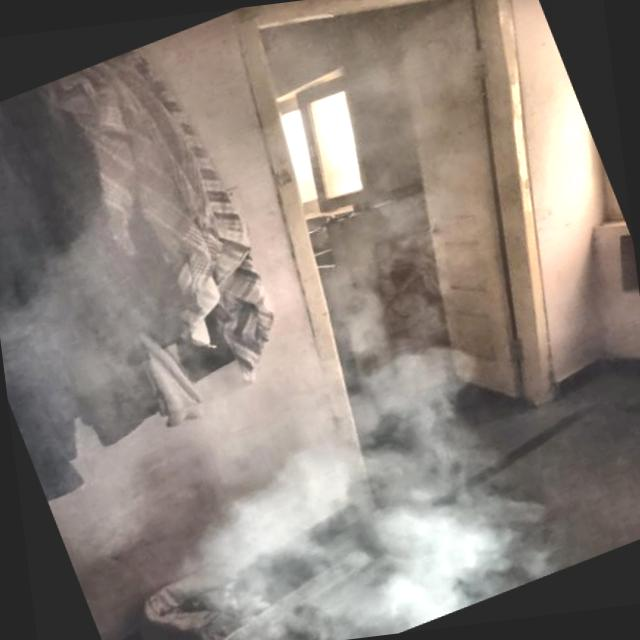smoke: (165, 365, 502, 640)
